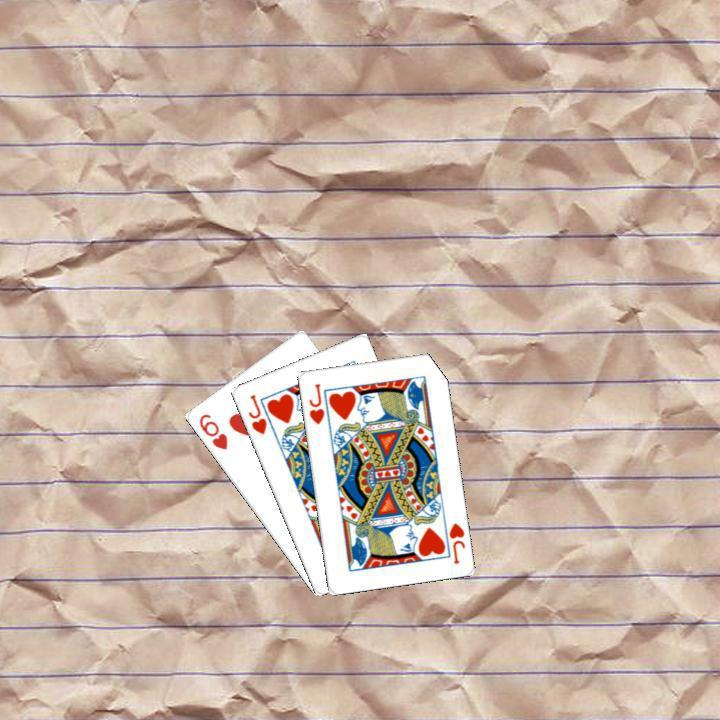6: (194, 409, 229, 452)
J: (243, 390, 268, 436), (304, 379, 326, 426), (444, 518, 466, 565)
